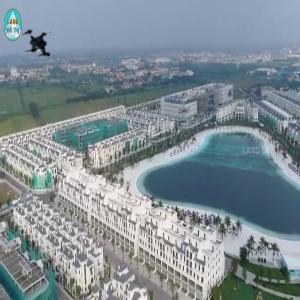drone: (17, 16, 71, 70)
